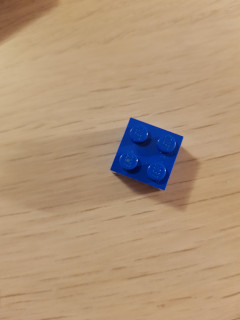2x2 blue: (107, 116, 186, 193)
